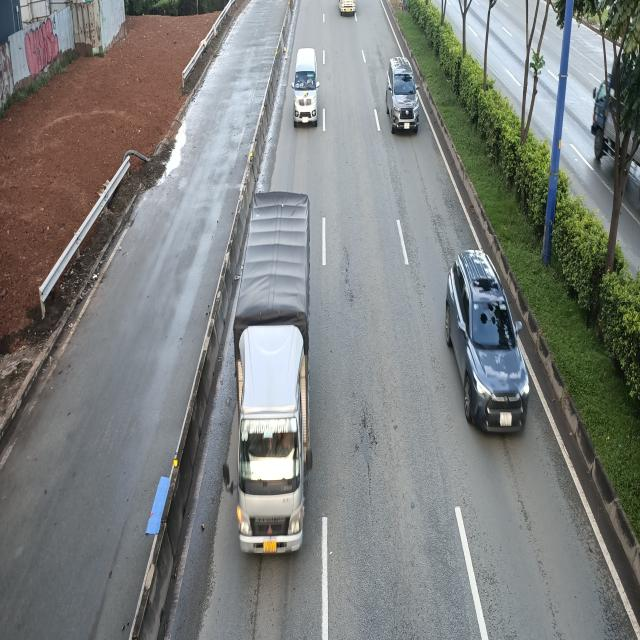car: (446, 250, 529, 434), (386, 59, 420, 135)
truck: (232, 192, 316, 555)
van: (292, 46, 320, 126)
